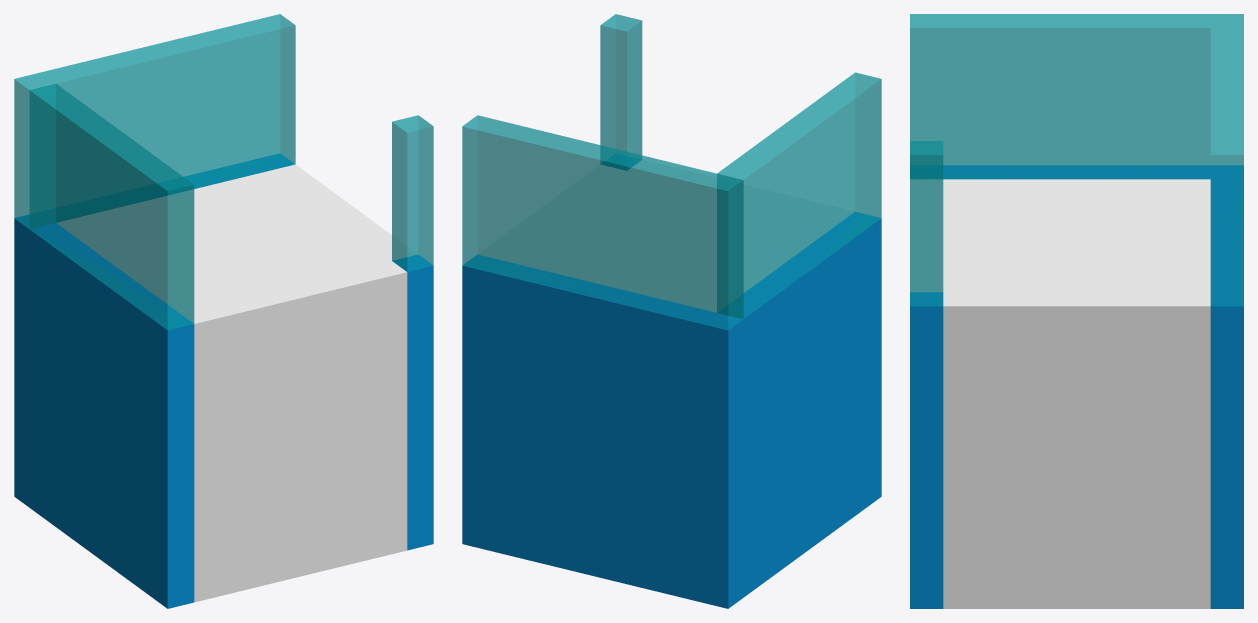
The picture shows the model from 3 angles, left to right: view 1: azimuth 30°, elevation 25°; view 2: azimuth 150°, elevation 25°; view 3: azimuth 270°, elevation 25°; orthographic projection. The views are drawn at different scales.
Visible parts, largest first — view 1: 4, 立方体.016, 立方体.010, 立方体.015; view 2: 4, 立方体.016, 立方体.010, 立方体.015; view 3: 4, 立方体.010, 立方体.016, 立方体.015.
Part boxes in pixels (x1,y1,x2,y2): 4: (14, 153, 433, 608); 立方体.016: (14, 14, 295, 228); 立方体.010: (29, 84, 194, 330); 立方体.015: (392, 115, 433, 271); 4: (462, 155, 881, 608); 立方体.016: (462, 115, 743, 330); 立方体.010: (717, 72, 881, 318); 立方体.015: (600, 14, 642, 170); 4: (910, 165, 1243, 608); 立方体.010: (910, 14, 1210, 179); 立方体.016: (1210, 14, 1243, 306); 立方体.015: (910, 141, 943, 306).
Size of the model in its own units: 2000 by 3000 by 2000.
